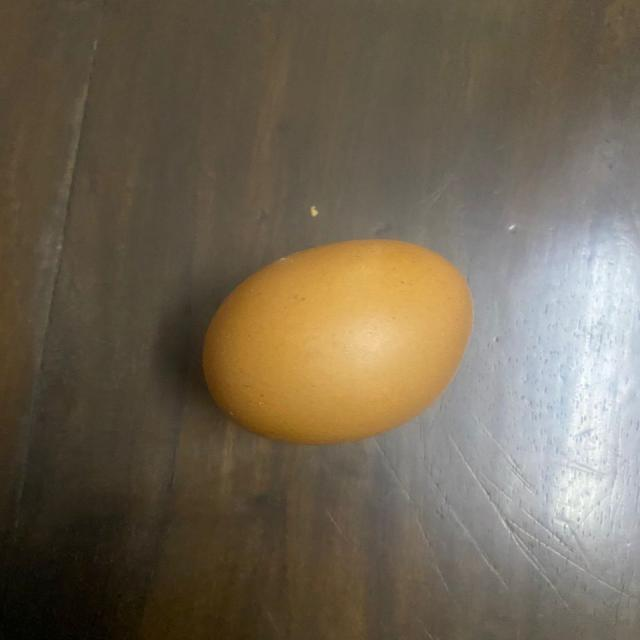egg: (197, 228, 476, 446)
